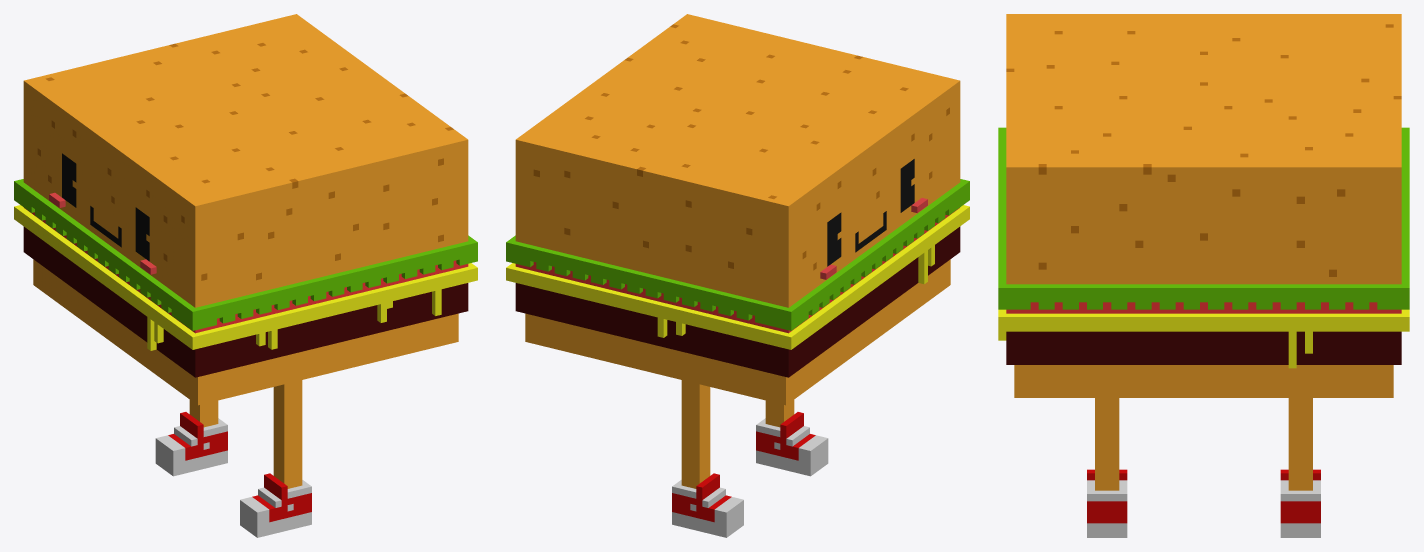
Rendered from burger.obj.
3 renders of one model, left to right at view 1: azimuth 30°, elevation 25°; view 2: azimuth 150°, elevation 25°; view 3: azimuth 270°, elevation 25°, orthographic. The views are drawn at different scales.
Size of the model in its own units: 4.7 by 6 by 5.1.
Materials: 1 (1 with a texture image).
